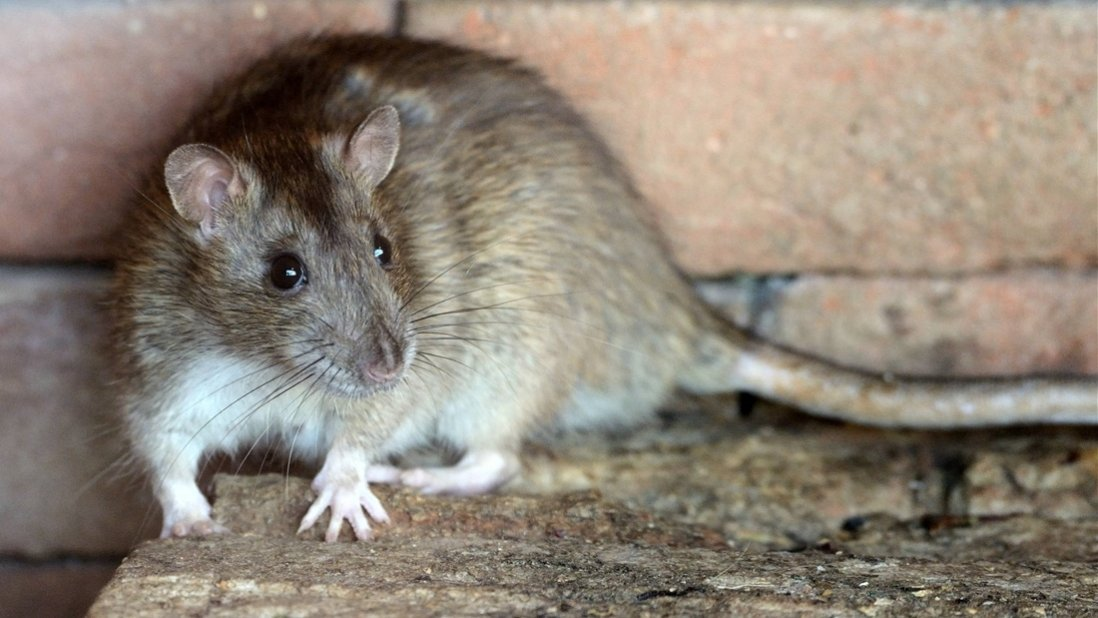rat: (87, 27, 896, 554)
